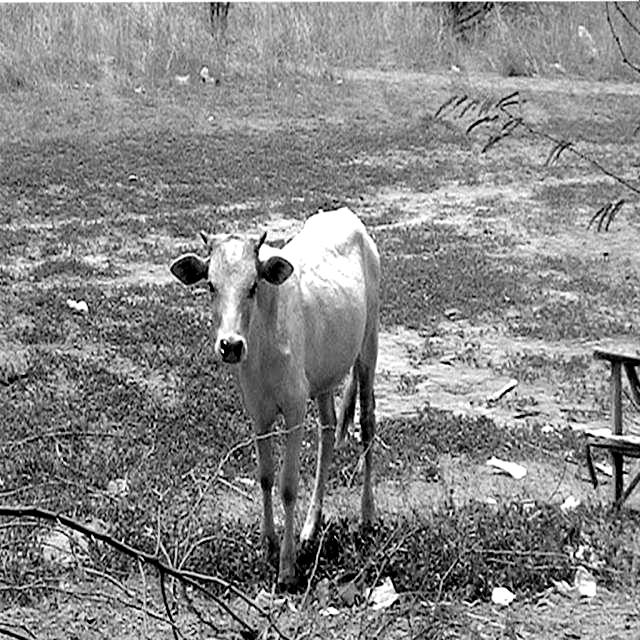COW: (170, 208, 380, 588)
